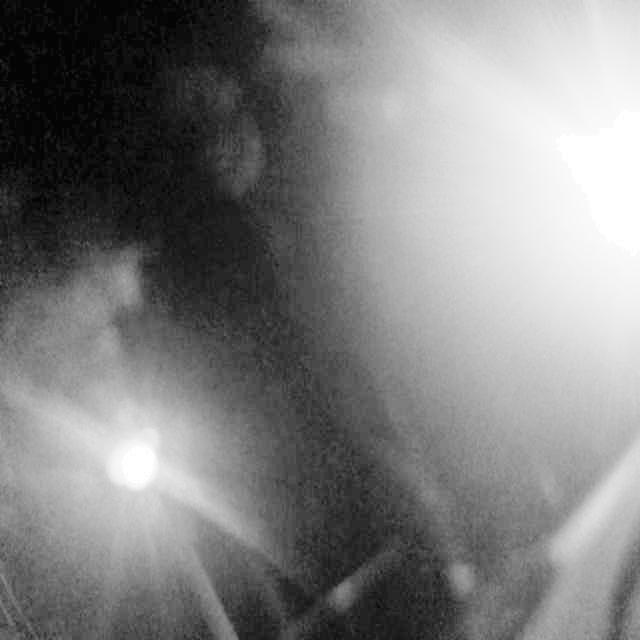Light: (433, 0, 640, 389), (34, 356, 257, 600)
